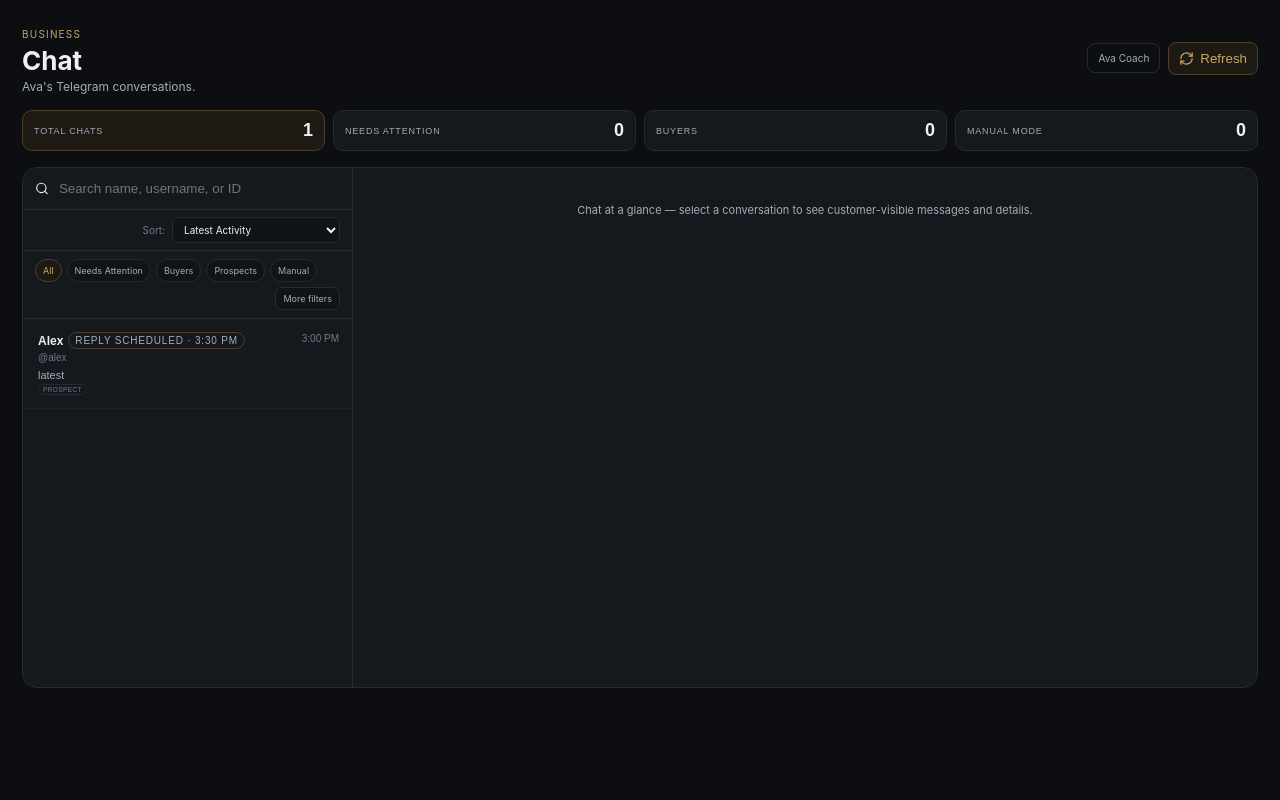
it: renders valid message history when the secondary control request fails
Step 1. Click the button "Alex REPLY SCHEDULED · 3:30 PM @alex latest PROSPECT 3:00 PM" → [157, 340], box [23,319,352,410]
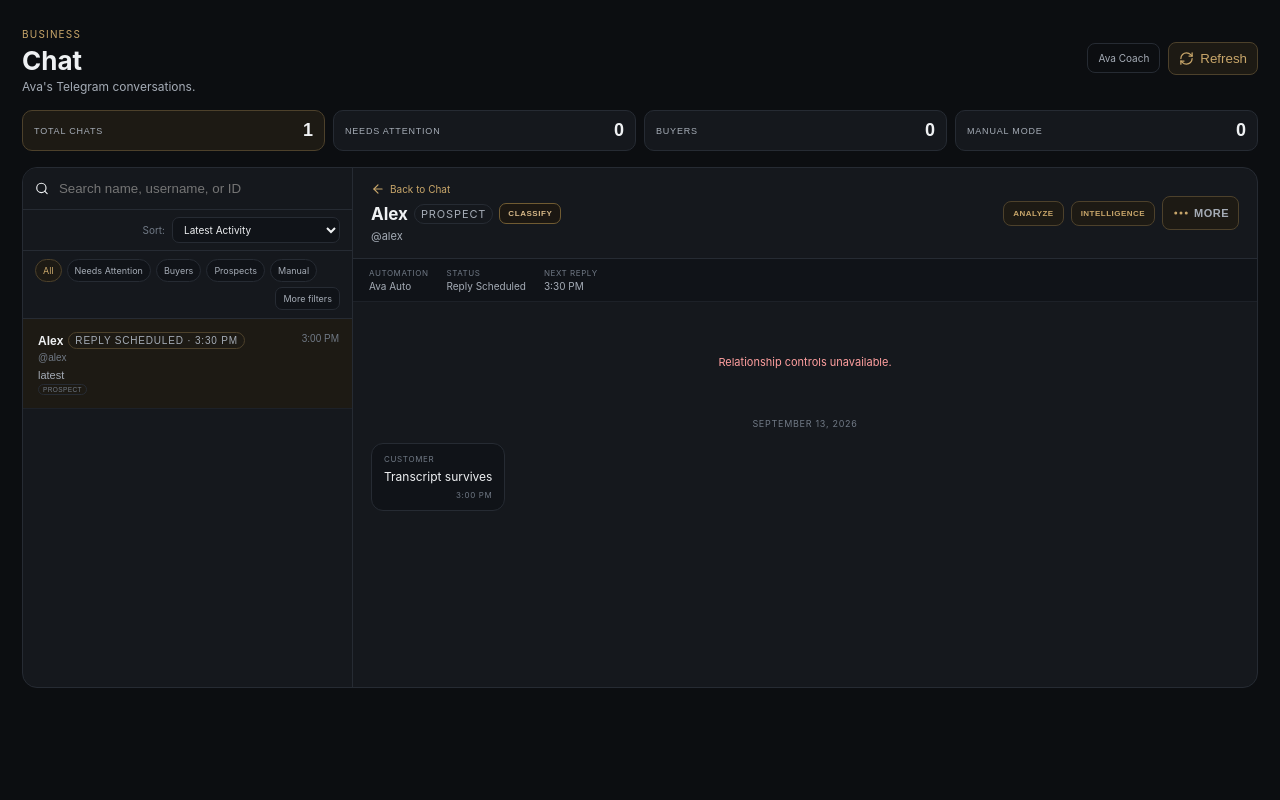
Check: the text "Transcript survives" is shown, box [384,468,492,486]
Check: the message reads "Relationship controls unavailable.", box [718,355,892,369]
